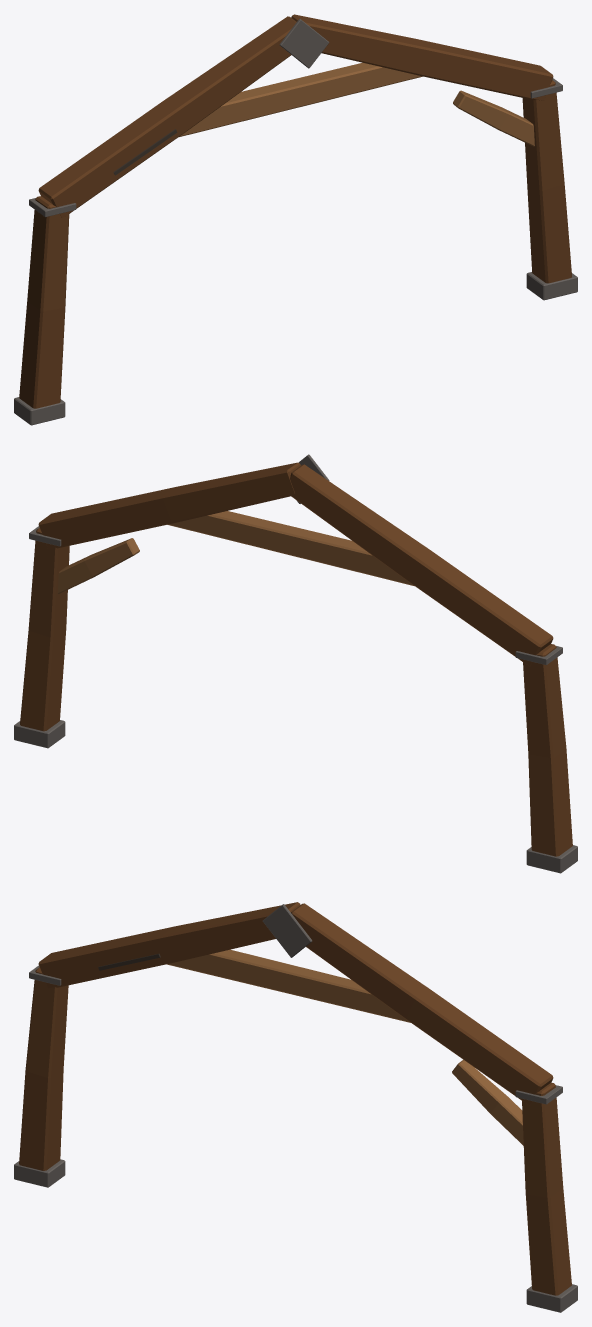
The model's file is timber_support_arch_c.glb.
The picture shows the model from 3 angles, top to bottom: view 1: azimuth 30°, elevation 25°; view 2: azimuth 150°, elevation 25°; view 3: azimuth 330°, elevation 25°; orthographic projection.
Visible parts, largest first — view 1: GEO_wooddark, GEO_wood, GEO_iron; view 2: GEO_wooddark, GEO_wood, GEO_iron; view 3: GEO_wooddark, GEO_wood, GEO_iron.
Boxes of the visible parts, x1,y1,x2,y2 form: GEO_wooddark: (19, 14, 571, 408); GEO_wood: (179, 62, 534, 146); GEO_iron: (14, 19, 577, 425); GEO_wooddark: (20, 462, 572, 856); GEO_wood: (57, 511, 414, 593); GEO_iron: (14, 454, 577, 873); GEO_wooddark: (19, 902, 571, 1295); GEO_wood: (167, 949, 523, 1145); GEO_iron: (14, 904, 577, 1312).
Size of the model in its own units: 14.68 by 8.73 by 0.83.
